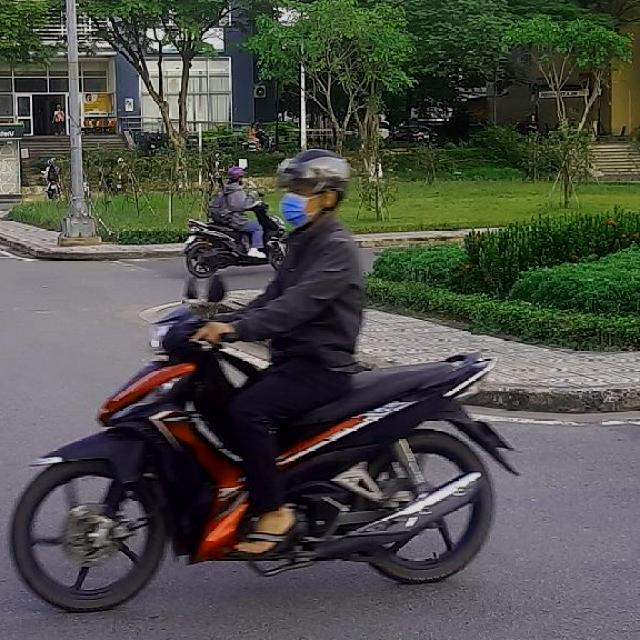Helmet: (280, 147, 351, 225)
